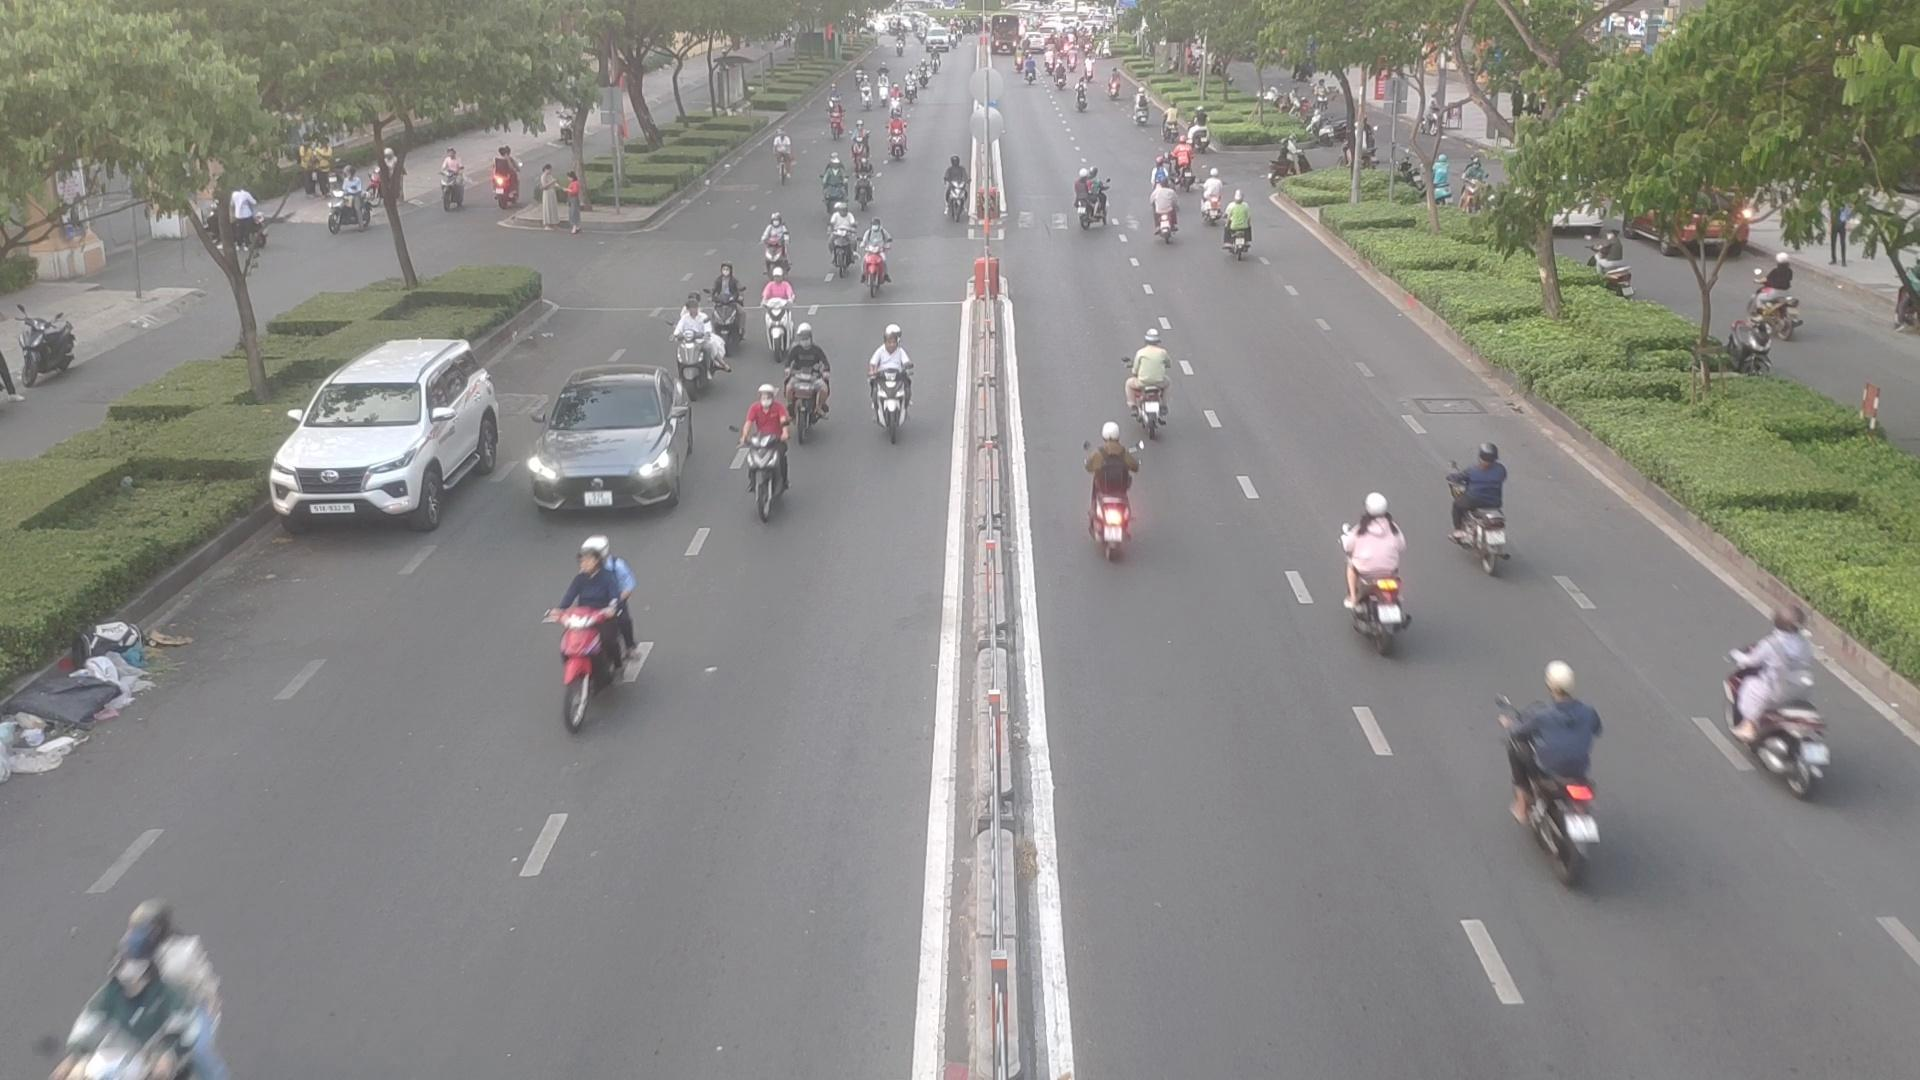car: (270, 339, 514, 530), (535, 371, 702, 516)
motorbike: (58, 910, 233, 1080), (1497, 680, 1609, 878), (1716, 625, 1838, 796), (534, 545, 653, 719), (1331, 502, 1408, 644), (1451, 443, 1520, 566), (1088, 425, 1135, 551), (1124, 340, 1183, 436), (862, 334, 916, 433), (781, 322, 823, 436), (673, 313, 731, 392), (736, 386, 777, 498), (703, 266, 752, 342), (758, 274, 803, 351), (1064, 167, 1112, 232), (856, 228, 895, 298), (753, 214, 795, 277), (824, 200, 857, 280), (1150, 179, 1187, 247), (1222, 198, 1261, 261), (944, 156, 975, 225), (822, 154, 847, 216), (1164, 145, 1196, 191), (1195, 166, 1218, 225), (887, 116, 909, 166), (855, 156, 873, 210), (849, 123, 872, 166)
